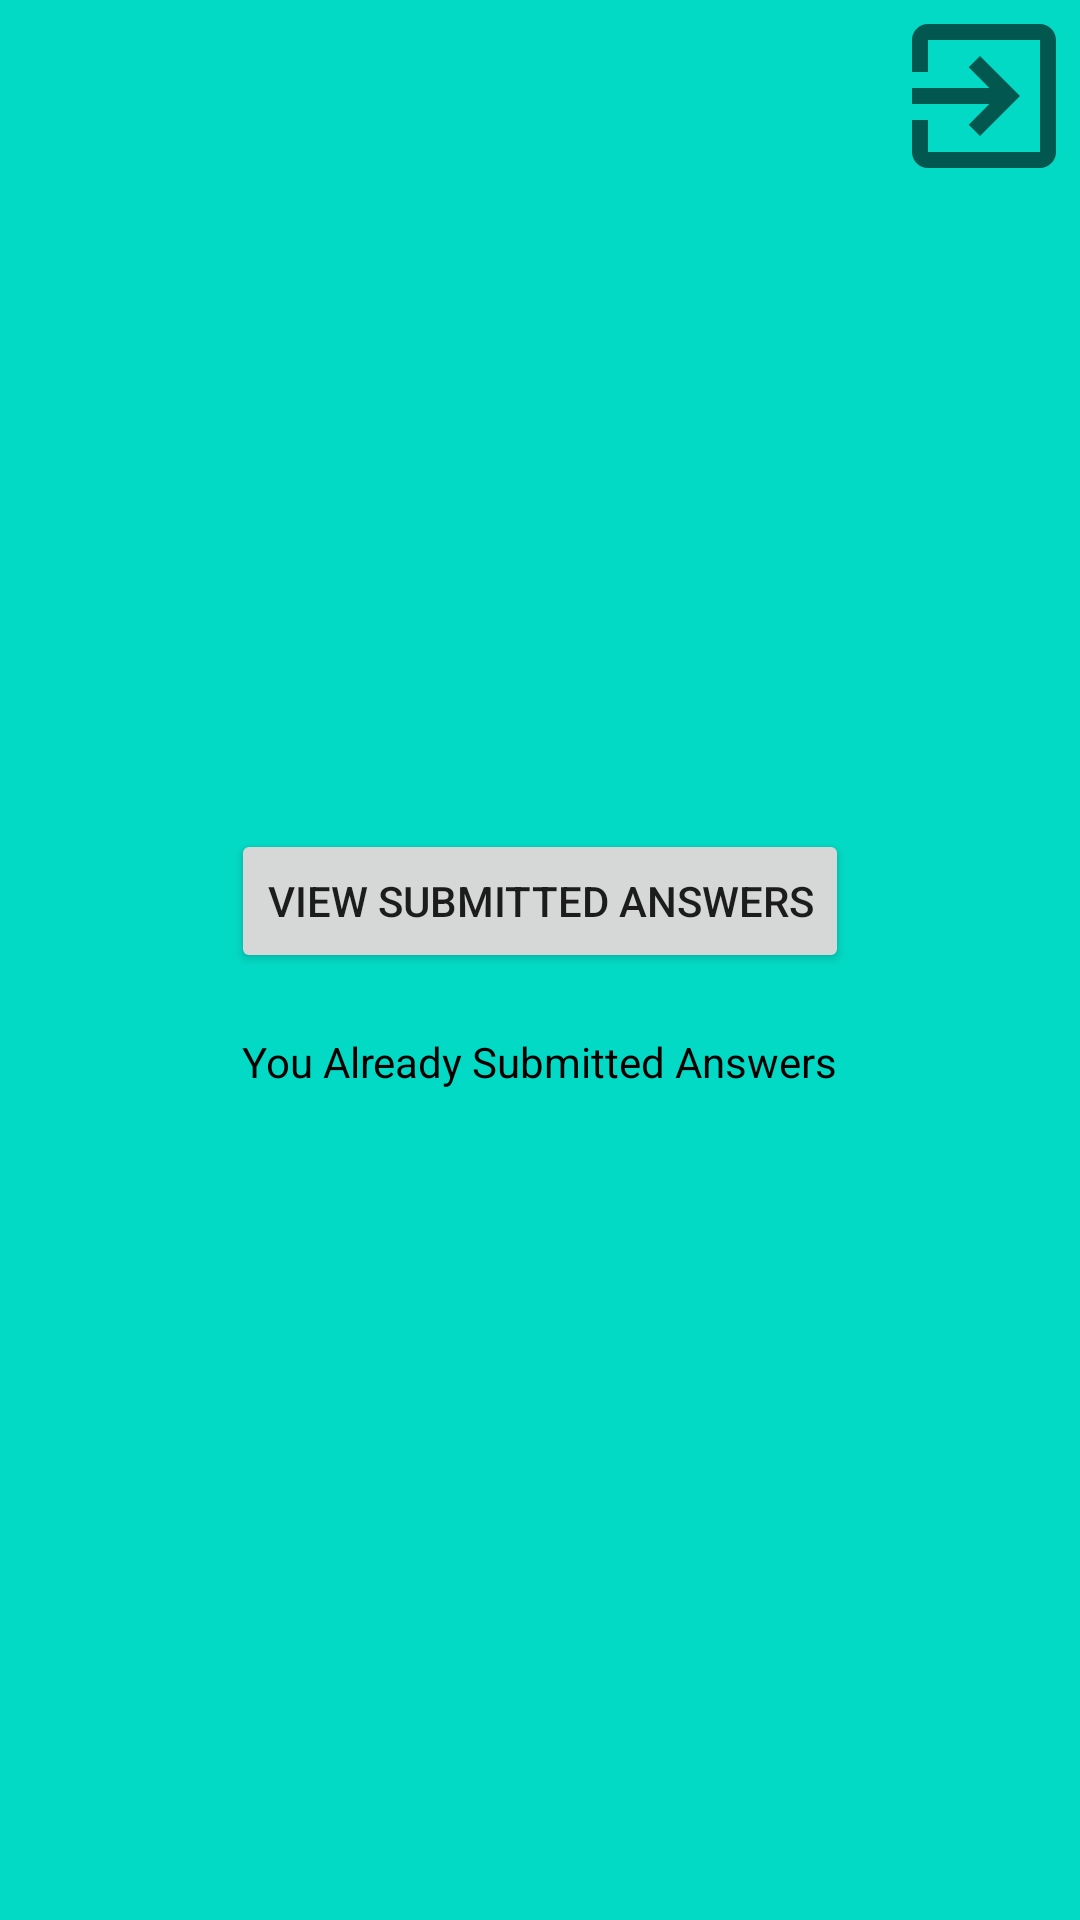

Icon click points for this 1080 × 1920 phone screenshot, format (x=x, y=y):
exit to app: (x=984, y=96)
